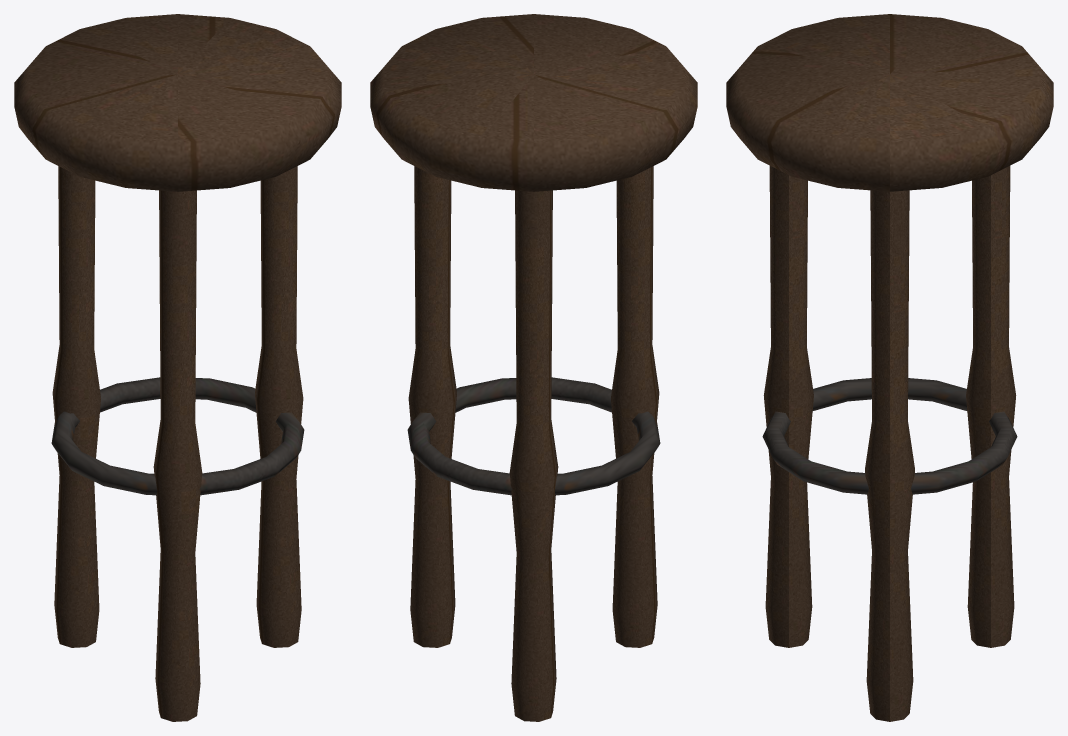
Rendered from stool.glb.
The picture shows the model from 3 angles, left to right: view 1: azimuth 30°, elevation 25°; view 2: azimuth 150°, elevation 25°; view 3: azimuth 270°, elevation 25°; orthographic projection.
Parts seen in each view (by area): view 1: stool; view 2: stool; view 3: stool.
Boxes of the visible parts, box(x1,y1,x2,y2) form: stool: box(14, 14, 341, 721); stool: box(370, 14, 697, 721); stool: box(726, 14, 1053, 721).
Bounding box in the file's own units: 0.37 × 0.725 × 0.3644.
1 material, 1 textured.
